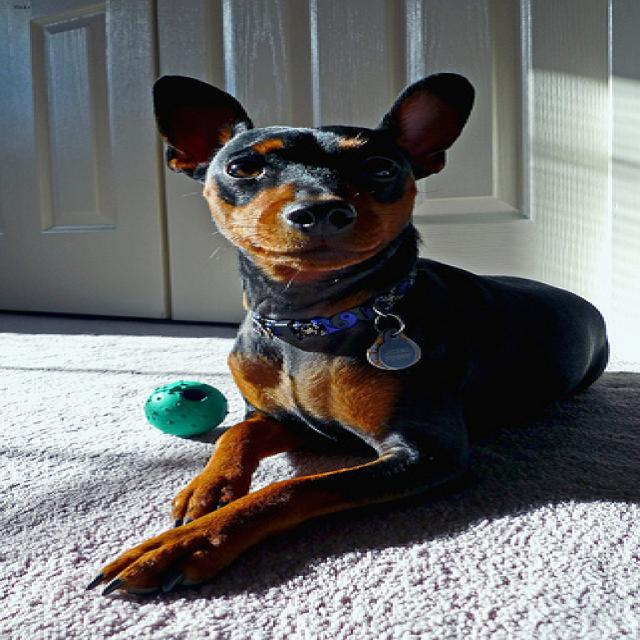dog-miniature_pinscher: (74, 68, 612, 604)
